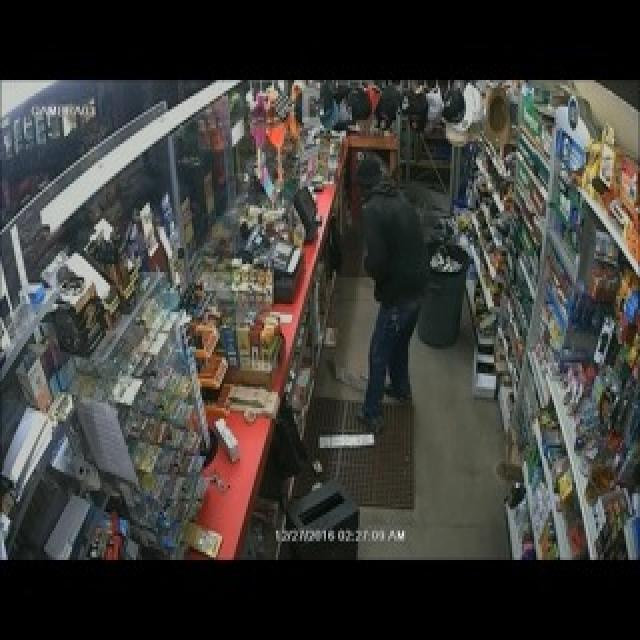thief: (344, 134, 426, 402)
